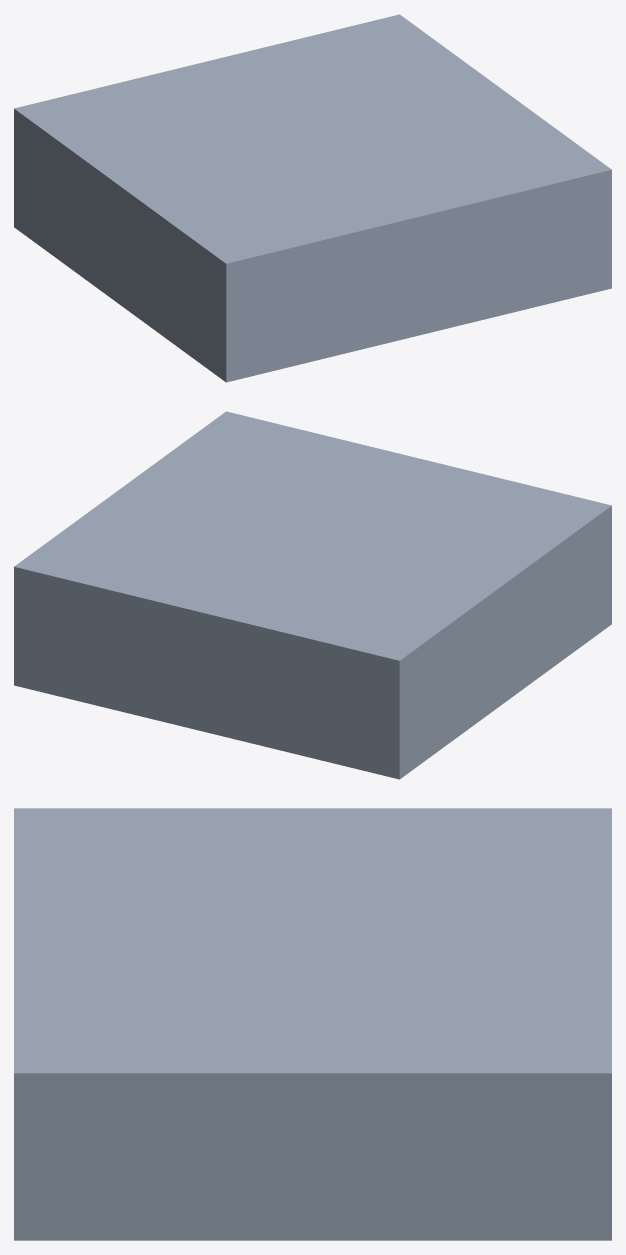
Rendered from SM_MM_W04_Body_02.fbx.
3 renders of one model, top to bottom at view 1: azimuth 30°, elevation 25°; view 2: azimuth 150°, elevation 25°; view 3: azimuth 270°, elevation 25°, orthographic. The views are drawn at different scales.
Parts seen in each view (by area): view 1: SM_MM_W04_Body_02; view 2: SM_MM_W04_Body_02; view 3: SM_MM_W04_Body_02.
Part boxes in pixels (<box>): SM_MM_W04_Body_02: <box>14,14,611,382</box>; SM_MM_W04_Body_02: <box>14,411,611,779</box>; SM_MM_W04_Body_02: <box>14,808,611,1240</box>.
Size of the model in its own units: 13.6 by 12.96 by 4.
